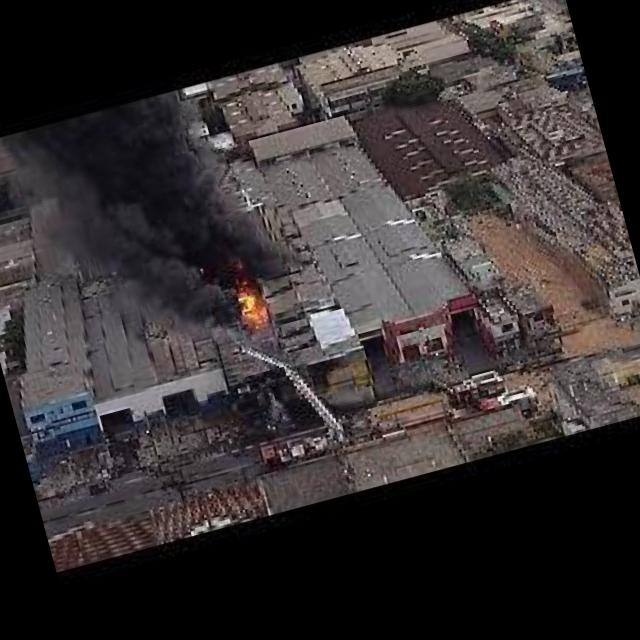fire: (222, 272, 276, 336)
smoke: (1, 77, 300, 354)
